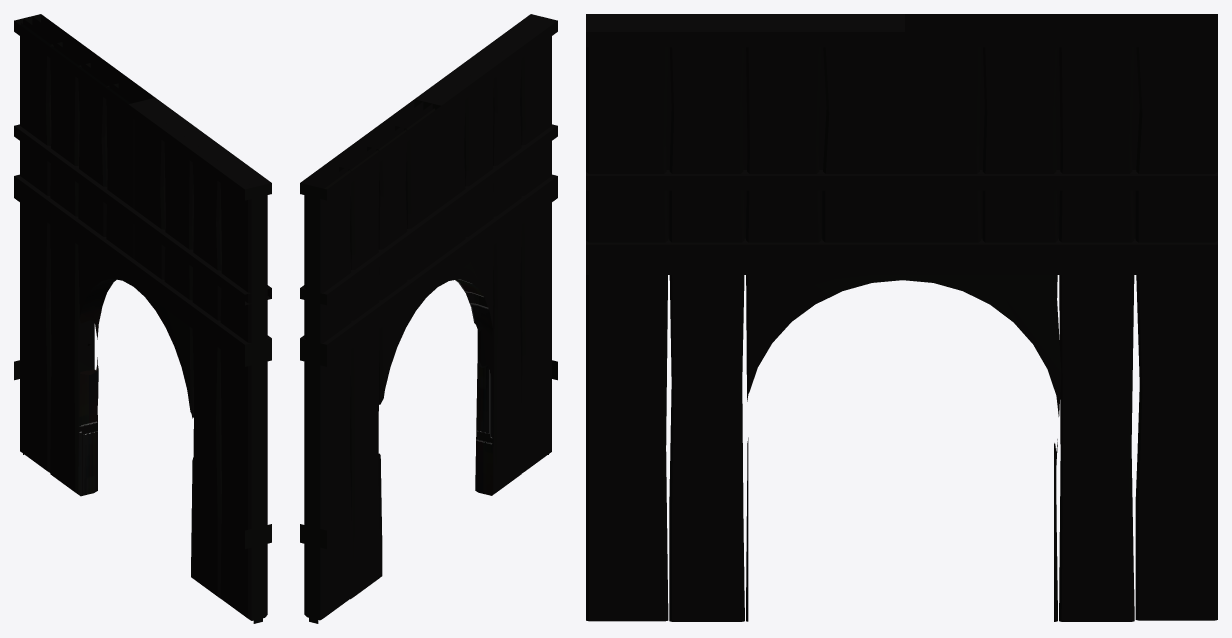
Rendered from doorwall2.fbx.
3 renders of one model, left to right at view 1: azimuth 30°, elevation 25°; view 2: azimuth 150°, elevation 25°; view 3: azimuth 270°, elevation 25°, orthographic. The views are drawn at different scales.
Visible parts, largest first — view 1: SFT_Building_Attachable_Interior_Wall; view 2: SFT_Building_Attachable_Interior_Wall; view 3: SFT_Building_Attachable_Interior_Wall.
Boxes of the visible parts, bbox=[...] form: SFT_Building_Attachable_Interior_Wall: bbox=[14, 14, 271, 623]; SFT_Building_Attachable_Interior_Wall: bbox=[300, 14, 557, 623]; SFT_Building_Attachable_Interior_Wall: bbox=[586, 14, 1217, 621].
Bounding box in the file's own units: 7.61 × 118 × 113.
